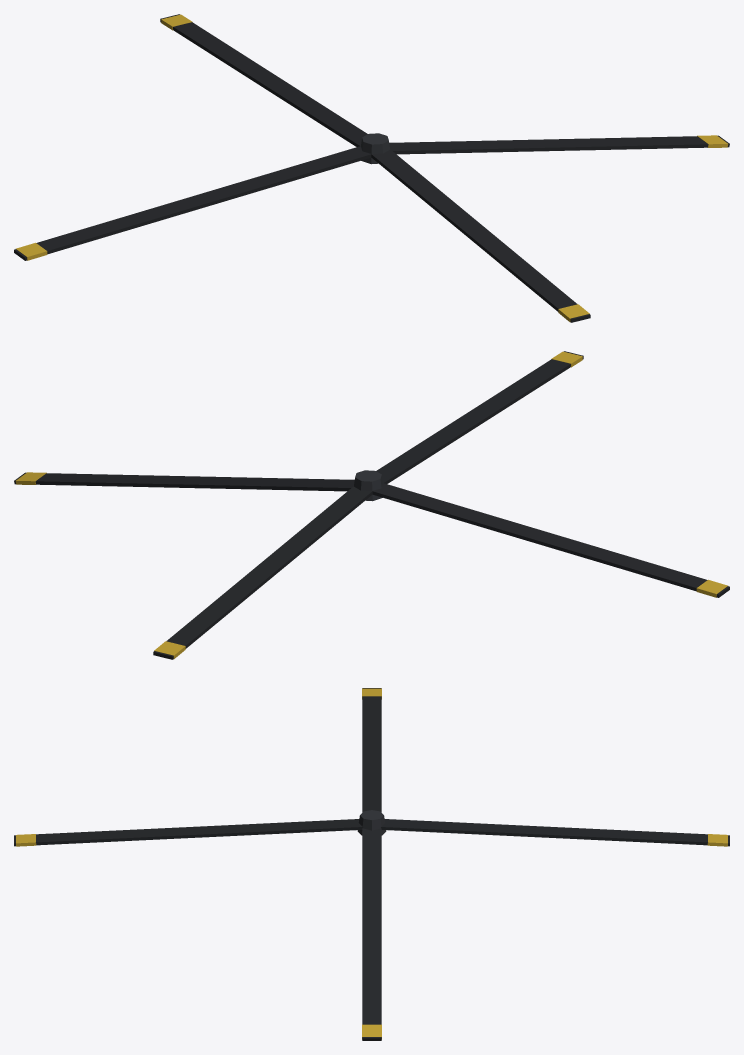
Rendered from heli_rotor.glb.
3 views of the same model, one above another, from view 1: azimuth 30°, elevation 25°; view 2: azimuth 150°, elevation 25°; view 3: azimuth 270°, elevation 25° (orthographic). The views are drawn at different scales.
Visible parts, largest first — view 1: heli_rotor; view 2: heli_rotor; view 3: heli_rotor.
Boxes of the visible parts, bbox=[...] form: heli_rotor: bbox=[14, 14, 729, 322]; heli_rotor: bbox=[14, 351, 729, 659]; heli_rotor: bbox=[14, 688, 729, 1040].
Bounding box in the file's own units: 8.8 × 1.06 × 8.89.
